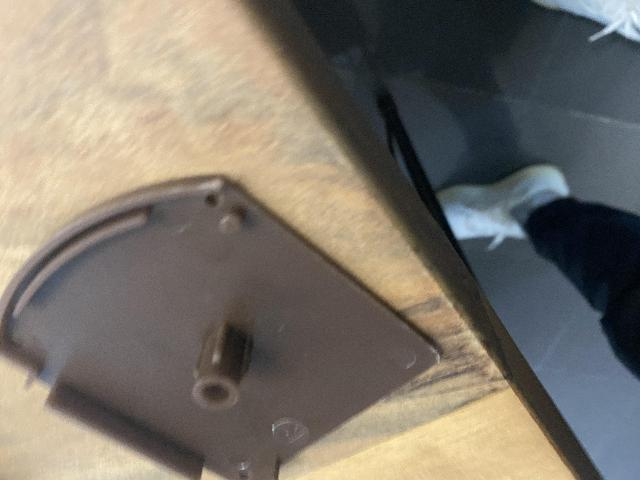Plastik: (0, 171, 451, 480)
